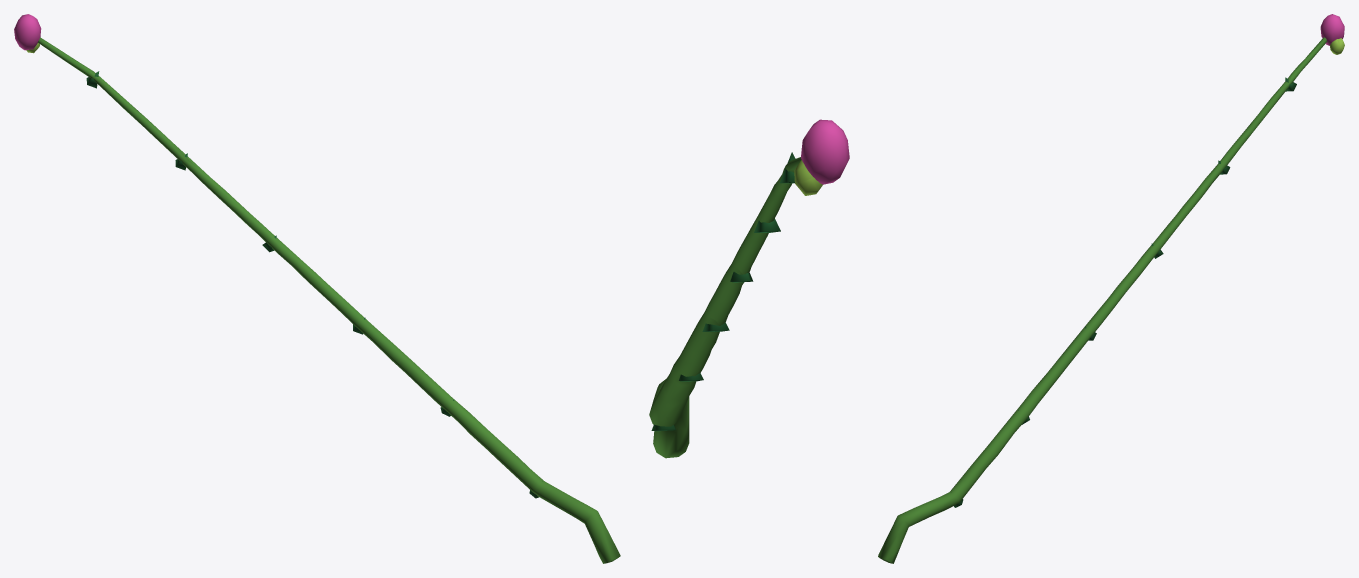
Rendered from canopy_orchid_spike_lod2.glb.
3 renders of one model, left to right at view 1: azimuth 30°, elevation 25°; view 2: azimuth 150°, elevation 25°; view 3: azimuth 270°, elevation 25°, orthographic. The views are drawn at different scales.
Parts seen in each view (by area): view 1: canopy_orchid_spike.001; view 2: canopy_orchid_spike.001; view 3: canopy_orchid_spike.001.
Boxes of the visible parts, <box> form: canopy_orchid_spike.001: <box>14,14,620,563</box>; canopy_orchid_spike.001: <box>649,119,849,458</box>; canopy_orchid_spike.001: <box>878,14,1344,563</box>.
Bounding box in the file's own units: 16.51 × 19.95 × 20.99.
